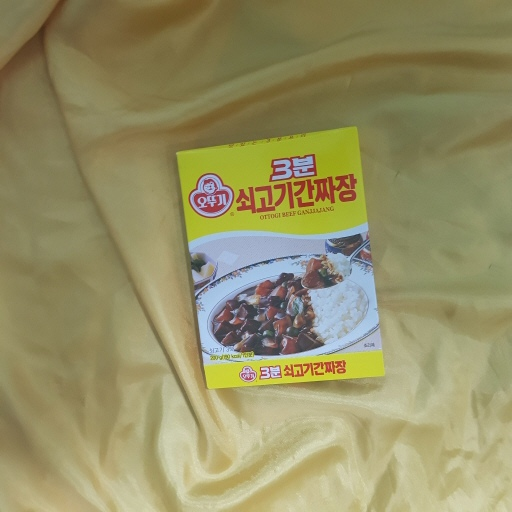Paper_0: (171, 122, 396, 392)
